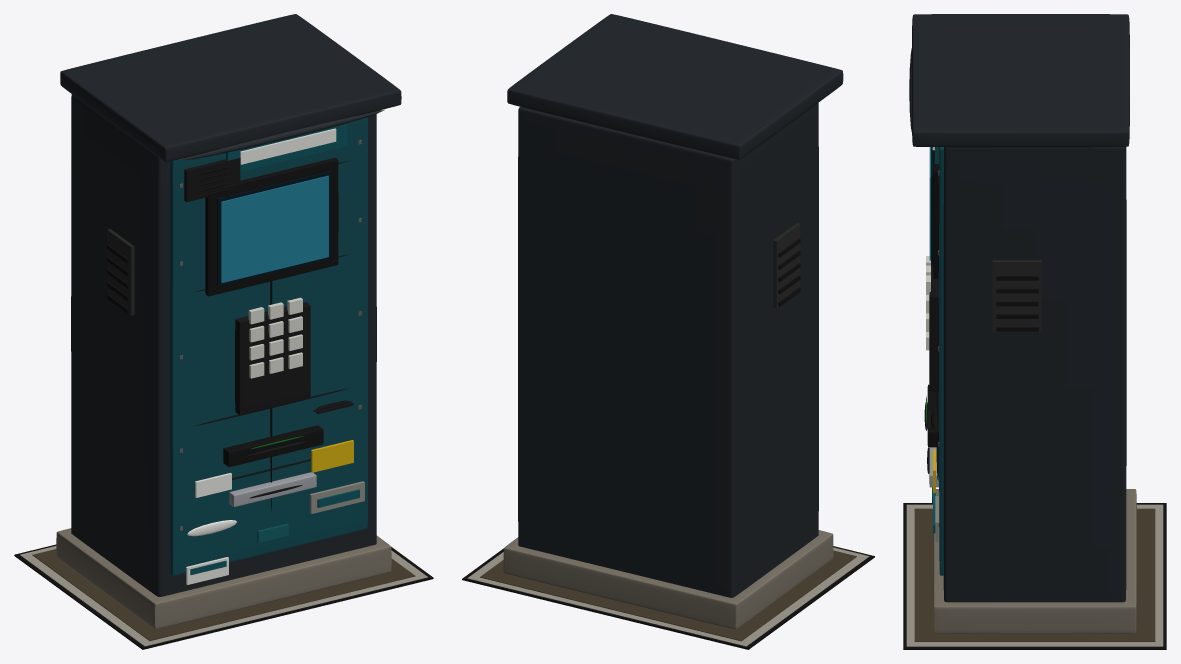
Rendered from hm_prop_atm_v2.obj.
The picture shows the model from 3 angles, left to right: view 1: azimuth 30°, elevation 25°; view 2: azimuth 150°, elevation 25°; view 3: azimuth 270°, elevation 25°; orthographic projection. The views are drawn at different scales.
Parts seen in each view (by area): view 1: ATM_Body, ATM_Face, ATM_Hood, ATM_Base, ATM_Glow, ATM_Pad, hm_prop_atm_v2_Dirt, ATM_Bezel, hm_prop_atm_v2_SaltRing, hm_prop_atm_v2_Shadow, ATM_SlotHouse, ATM_Speaker (+10 smaller); view 2: ATM_Body, ATM_Hood, ATM_Base, hm_prop_atm_v2_Dirt, hm_prop_atm_v2_SaltRing, hm_prop_atm_v2_Shadow, ATM_Vent_-1; view 3: ATM_Body, ATM_Hood, ATM_Base, hm_prop_atm_v2_Dirt, hm_prop_atm_v2_SaltRing, ATM_Vent_1, hm_prop_atm_v2_Shadow, ATM_Face, ATM_Pad, ATM_Bezel, ATM_SlotHouse.
Part boxes in pixels (x1=…): ATM_Body: x1=71, y1=94, x2=376, y2=596; ATM_Face: x1=170, y1=117, x2=367, y2=575; ATM_Hood: x1=60, y1=14, x2=401, y2=161; ATM_Base: x1=56, y1=528, x2=391, y2=629; ATM_Glow: x1=221, y1=175, x2=328, y2=282; ATM_Pad: x1=235, y1=302, x2=310, y2=415; hm_prop_atm_v2_Dirt: x1=32, y1=549, x2=415, y2=640; ATM_Bezel: x1=205, y1=158, x2=338, y2=296; hm_prop_atm_v2_SaltRing: x1=20, y1=546, x2=427, y2=646; hm_prop_atm_v2_Shadow: x1=14, y1=544, x2=433, y2=649; ATM_SlotHouse: x1=223, y1=425, x2=323, y2=466; ATM_Speaker: x1=184, y1=158, x2=240, y2=201; ATM_Body: x1=518, y1=103, x2=818, y2=597; ATM_Hood: x1=507, y1=14, x2=843, y2=159; ATM_Base: x1=503, y1=530, x2=833, y2=629; hm_prop_atm_v2_Dirt: x1=480, y1=550, x2=856, y2=641; hm_prop_atm_v2_SaltRing: x1=467, y1=547, x2=869, y2=646; hm_prop_atm_v2_Shadow: x1=462, y1=546, x2=874, y2=649; ATM_Vent_-1: x1=773, y1=223, x2=800, y2=308; ATM_Body: x1=943, y1=147, x2=1126, y2=602; ATM_Hood: x1=911, y1=14, x2=1129, y2=147; ATM_Base: x1=933, y1=489, x2=1136, y2=633; hm_prop_atm_v2_Dirt: x1=914, y1=508, x2=1155, y2=641; hm_prop_atm_v2_SaltRing: x1=906, y1=504, x2=1163, y2=646; ATM_Vent_1: x1=992, y1=260, x2=1041, y2=332; hm_prop_atm_v2_Shadow: x1=903, y1=503, x2=1166, y2=649; ATM_Face: x1=939, y1=147, x2=943, y2=575; ATM_Pad: x1=929, y1=265, x2=938, y2=391; ATM_Bezel: x1=933, y1=147, x2=939, y2=278; ATM_SlotHouse: x1=927, y1=384, x2=938, y2=447.
Bounding box in the file's own units: 0.9775 × 1.58 × 0.7475.
